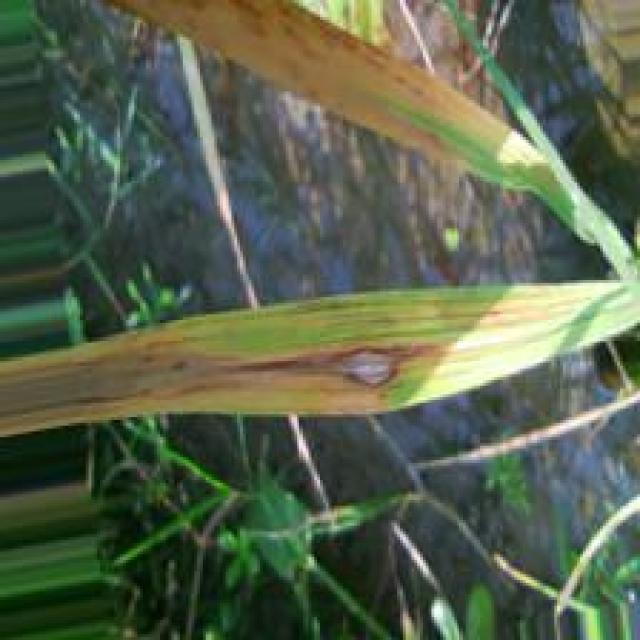Rice Tungro: (98, 0, 539, 180), (0, 330, 452, 434)
